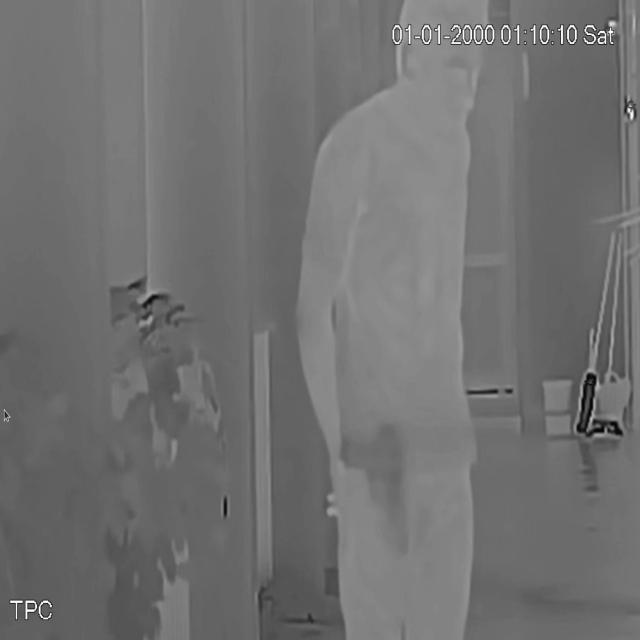Weapon: (333, 411, 432, 570)
